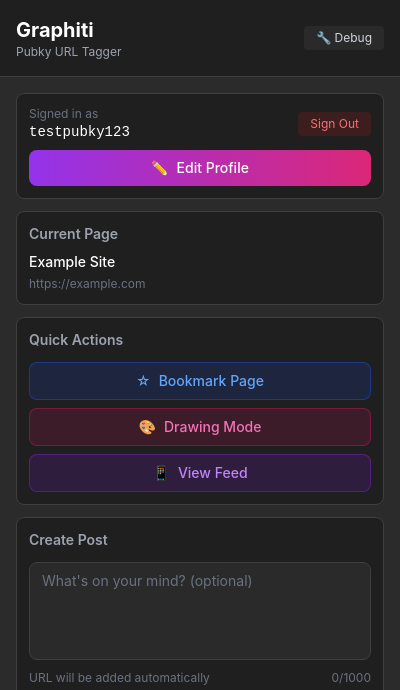
Test: Popup App Integration › Authenticated State › should toggle debug panel
Click the button "🔧 Debug". click: point(344, 38)
box: [304,26,384,50]
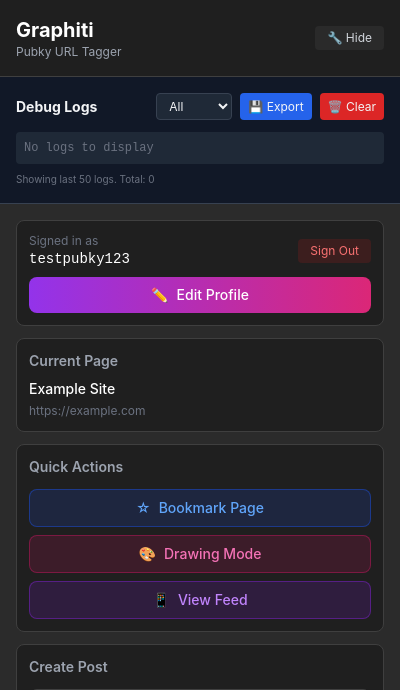
Result: the button "🔧 Hide" is shown at [316,26,384,50]
